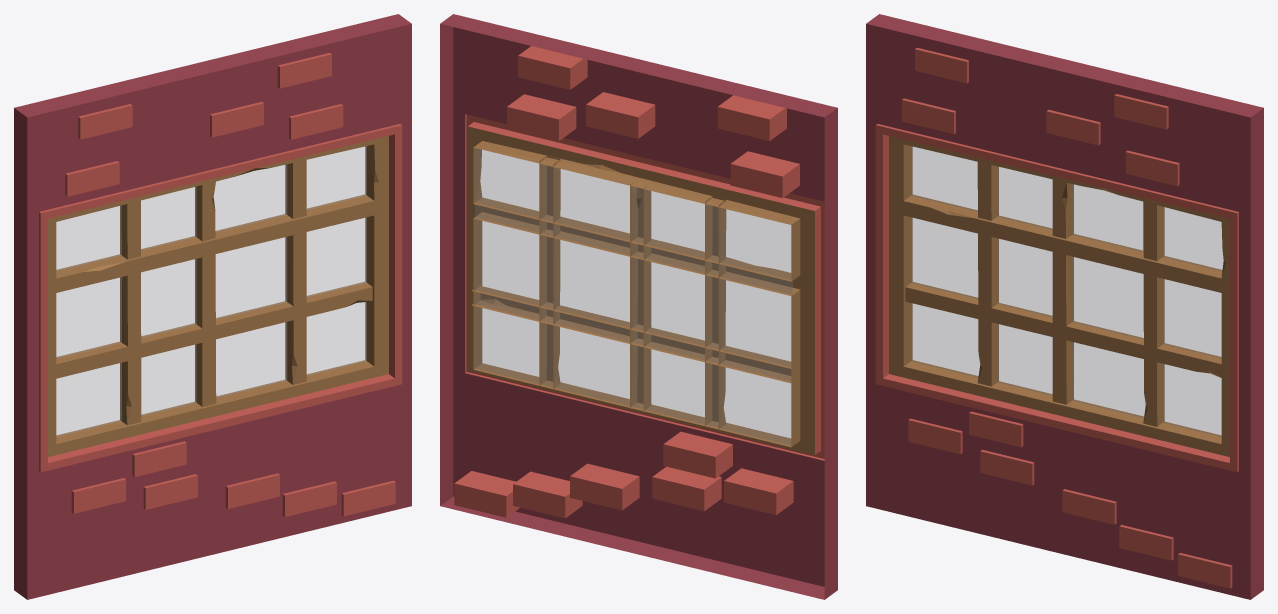
Rendered from Wall_Brick_Window.FBX.
3 renders of one model, left to right at view 1: azimuth 30°, elevation 25°; view 2: azimuth 150°, elevation 25°; view 3: azimuth 330°, elevation 25°, orthographic.
Parts seen in each view (by area): view 1: Wall_Brick_Window, SM_Bld_Wall_Brick_Window_02_Glass, Wall_Brick; view 2: Wall_Brick_Window, SM_Bld_Wall_Brick_Window_02_Glass, Wall_Brick; view 3: Wall_Brick_Window, SM_Bld_Wall_Brick_Window_02_Glass, Wall_Brick.
Boxes of the visible parts, x1,y1,x2,y2 form: Wall_Brick_Window: (14, 14, 411, 599); SM_Bld_Wall_Brick_Window_02_Glass: (56, 146, 366, 436); Wall_Brick: (65, 53, 395, 516); Wall_Brick_Window: (440, 14, 837, 599); SM_Bld_Wall_Brick_Window_02_Glass: (475, 148, 792, 444); Wall_Brick: (454, 46, 799, 518); Wall_Brick_Window: (866, 14, 1263, 599); SM_Bld_Wall_Brick_Window_02_Glass: (911, 146, 1223, 436); Wall_Brick: (902, 47, 1232, 588).
Bounding box in the file's own units: 250 × 300 × 21.8.
